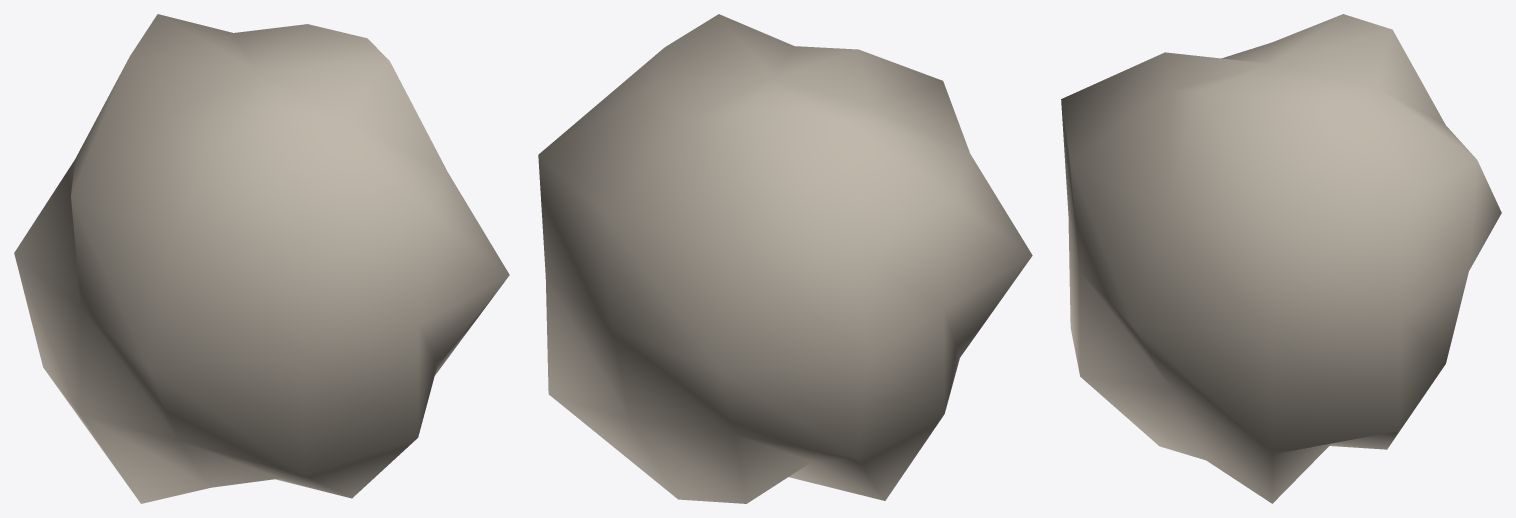
Rendered from clock_stone.glb.
3 views of the same model, side by side, from view 1: azimuth 30°, elevation 25°; view 2: azimuth 150°, elevation 25°; view 3: azimuth 270°, elevation 25° (orthographic). The views are drawn at different scales.
Visible parts, largest first — view 1: ClockStoneMesh; view 2: ClockStoneMesh; view 3: ClockStoneMesh.
Boxes of the visible parts, x1,y1,x2,y2 form: ClockStoneMesh: (14,14,509,503); ClockStoneMesh: (538,14,1032,503); ClockStoneMesh: (1061,14,1501,503).
Bounding box in the file's own units: 1.89 × 1.95 × 1.94.
